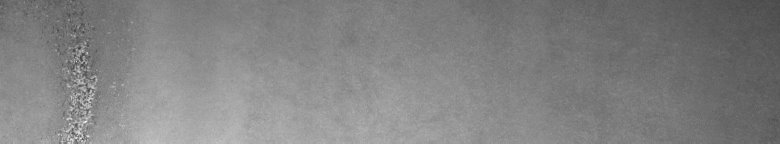hc: (16, 4, 128, 136)
